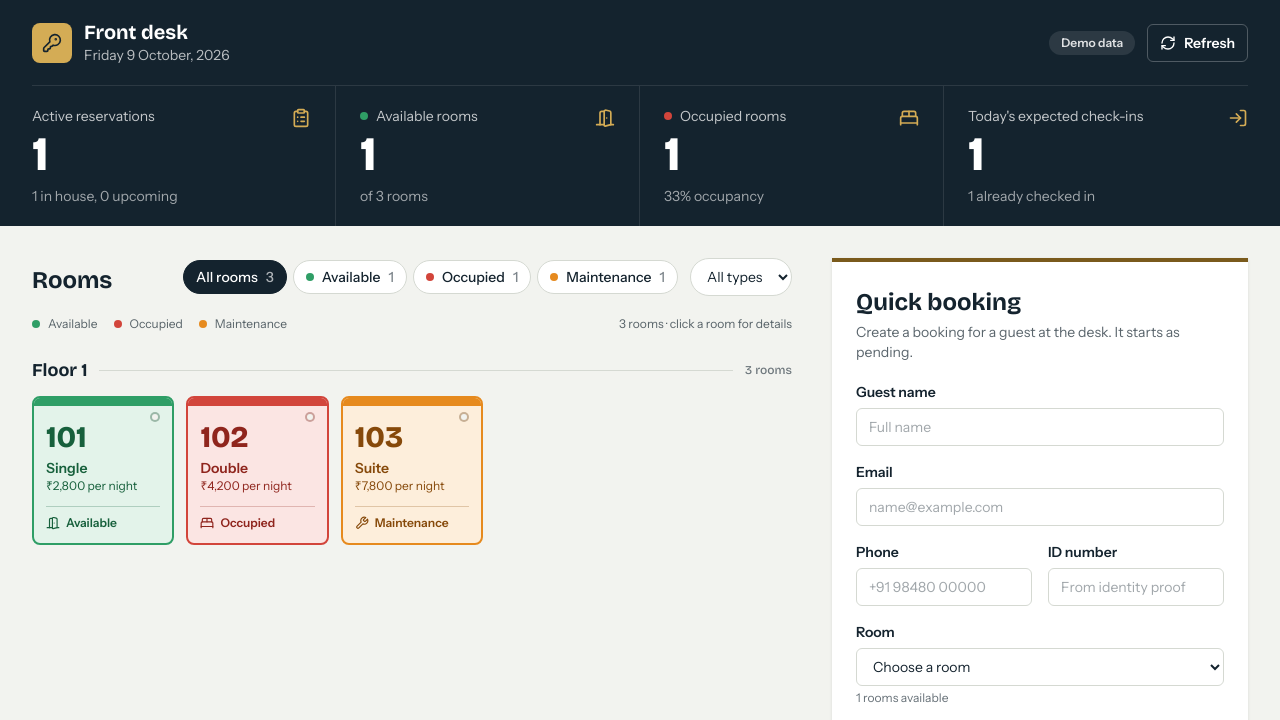
it: front desk dashboard › opens the room details dialog when a room tile is selected
Click the button with aria-label "room 102": (258, 470) [186,396,329,545]
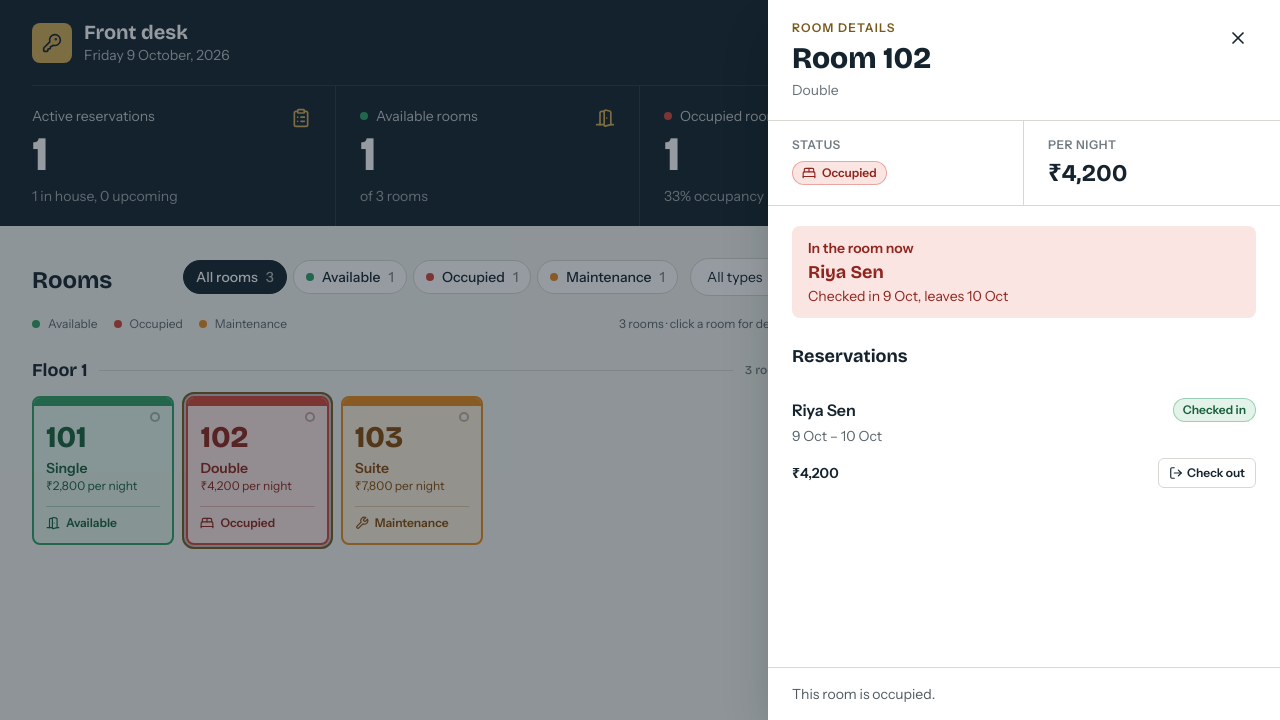
Check: the dialog is shown, box [768,0,1279,719]
Check: the heading "Reservations" is shown, box [792,345,908,367]
